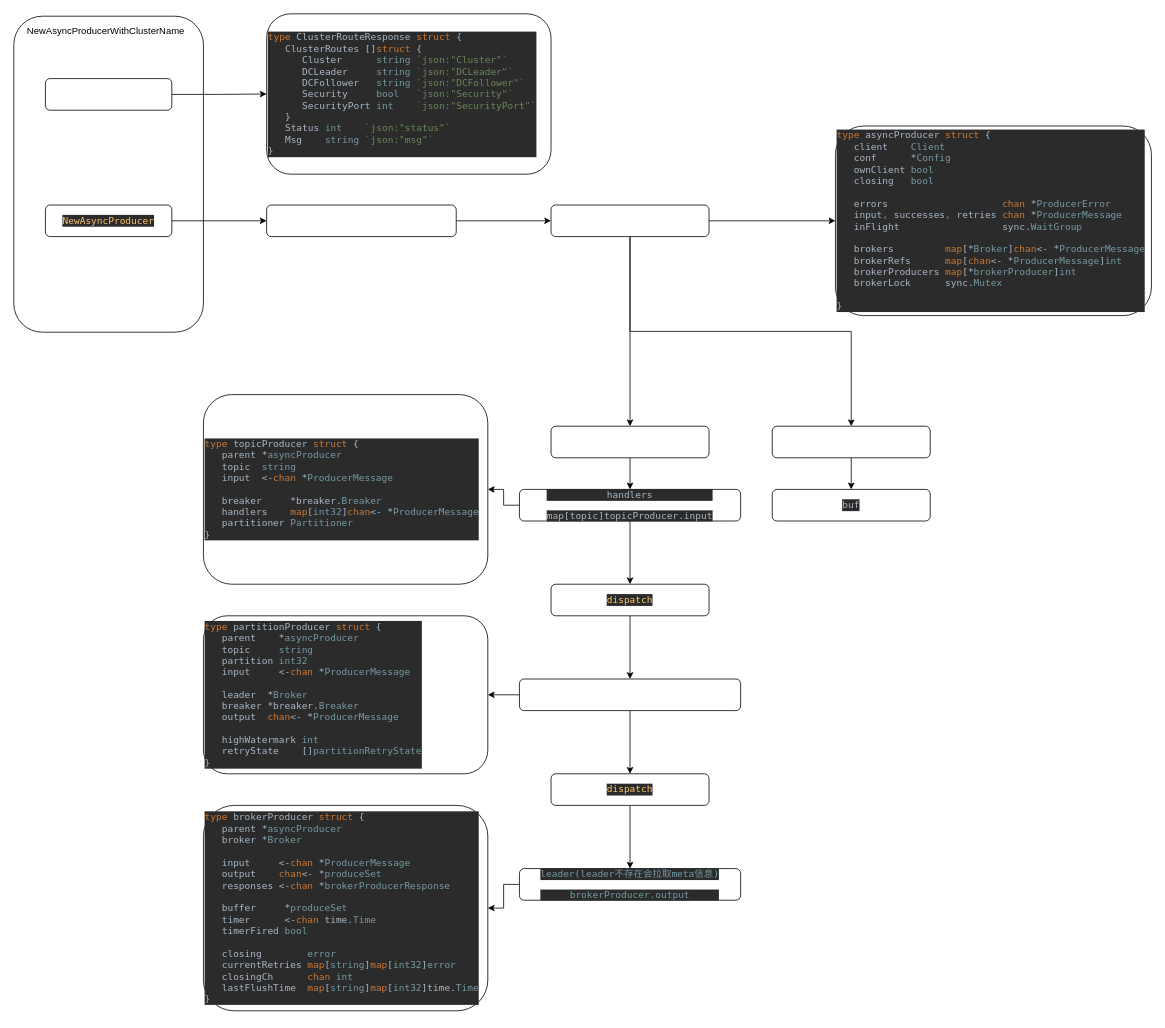
Image size: 1165x1028. Some labels were removed from this diagram. The shapes that lost their labels are listed below. From the top down, each one's centre as x and y in pixels, then its label:
pixel 108 94: GetRealServer
pixel 361 220: NewAsyncProducerFromClient
pixel 629 220: asyncProducer
pixel 629 441: dispatcher
pixel 850 441: retryHandler
pixel 630 694: handlers partitionProducer.input
